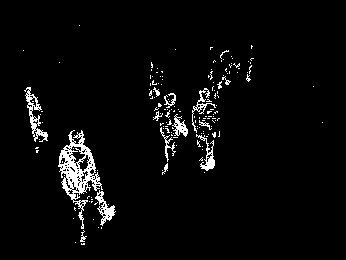person: (57, 127, 115, 244), (155, 92, 189, 173), (192, 87, 220, 175), (23, 84, 49, 155)
